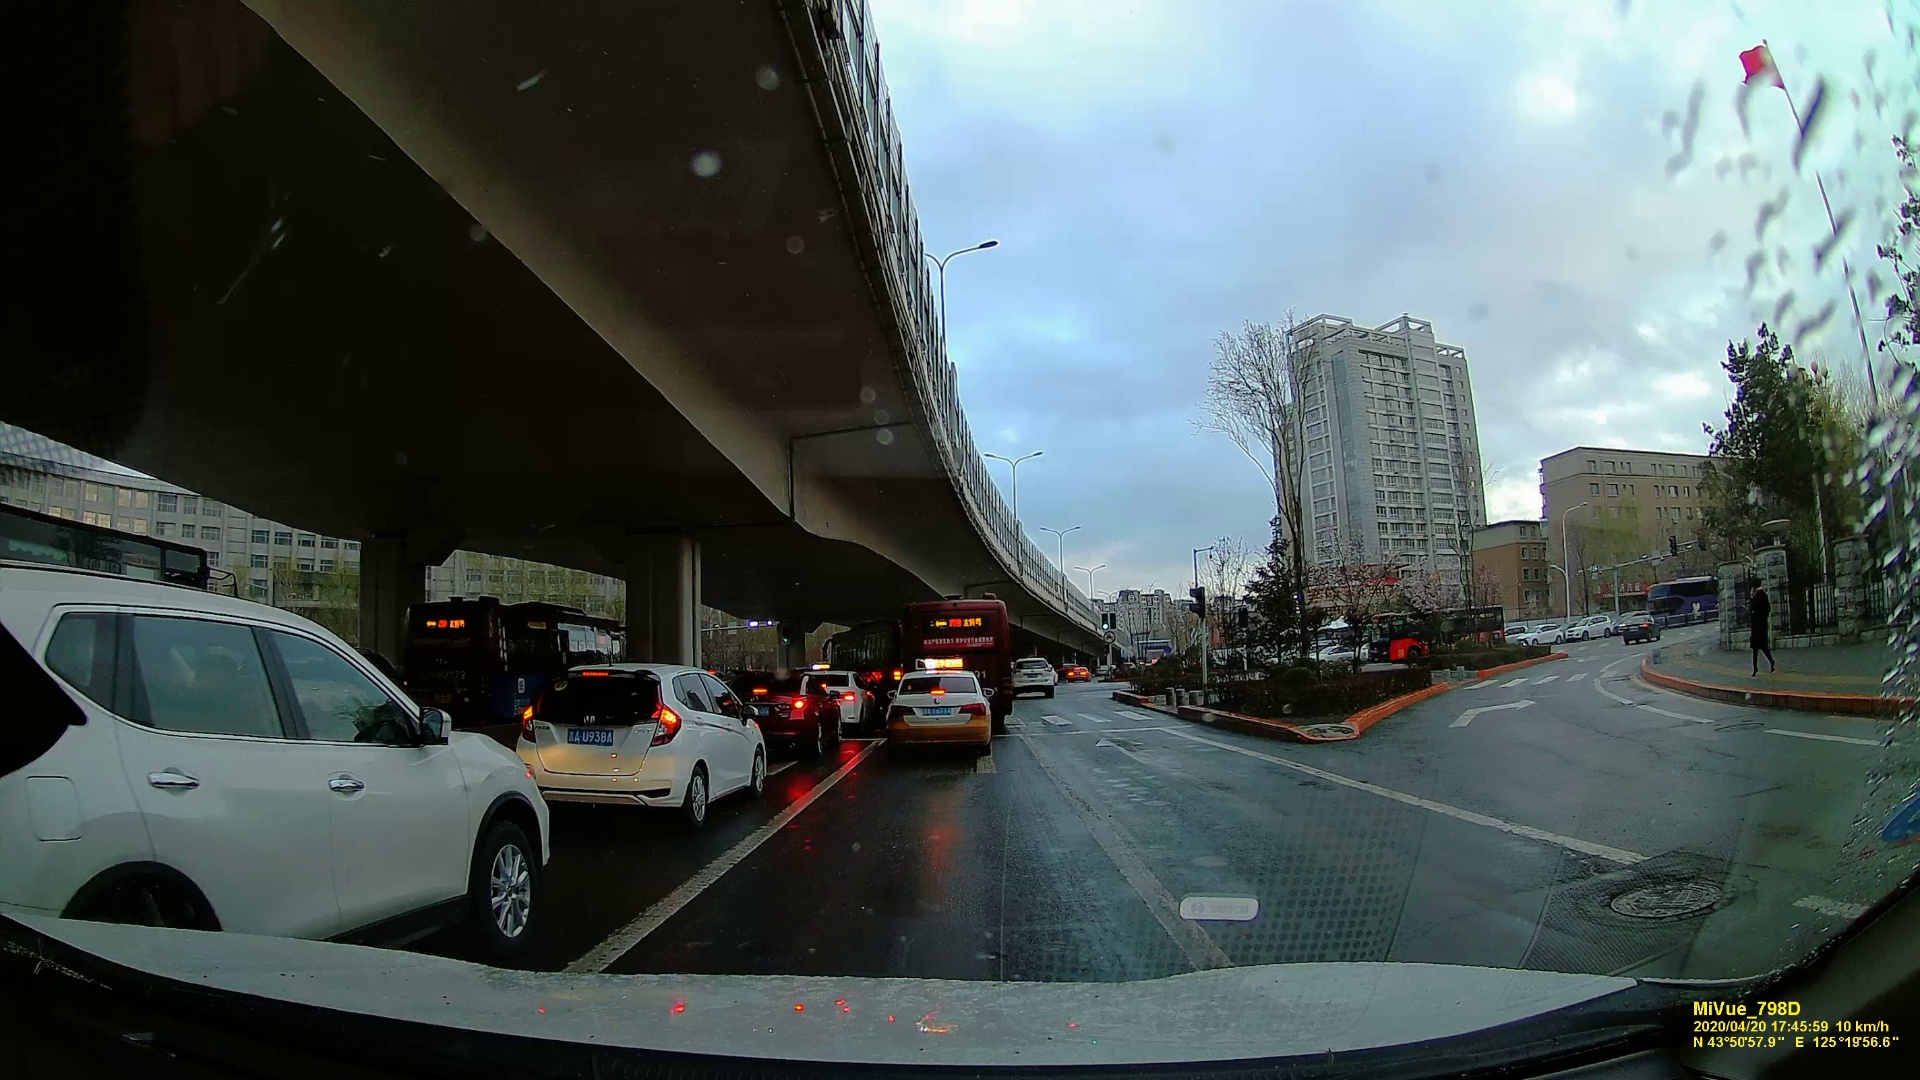bus: (403, 608, 609, 722), (891, 601, 1012, 709), (1647, 579, 1717, 620)
person: (1743, 578, 1776, 676)
traffic_sign: (1185, 584, 1208, 618), (1666, 534, 1677, 557), (1103, 631, 1115, 643), (1101, 613, 1109, 631)
vehicle: (8, 563, 537, 958), (511, 657, 769, 823), (881, 671, 992, 760), (1016, 658, 1057, 696), (1621, 614, 1660, 643), (1566, 617, 1611, 641), (1068, 666, 1090, 683)
